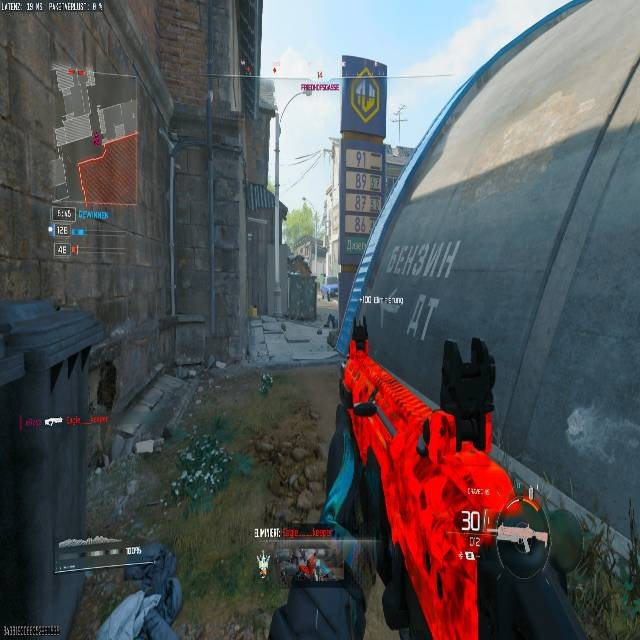player: (326, 312, 336, 328)
